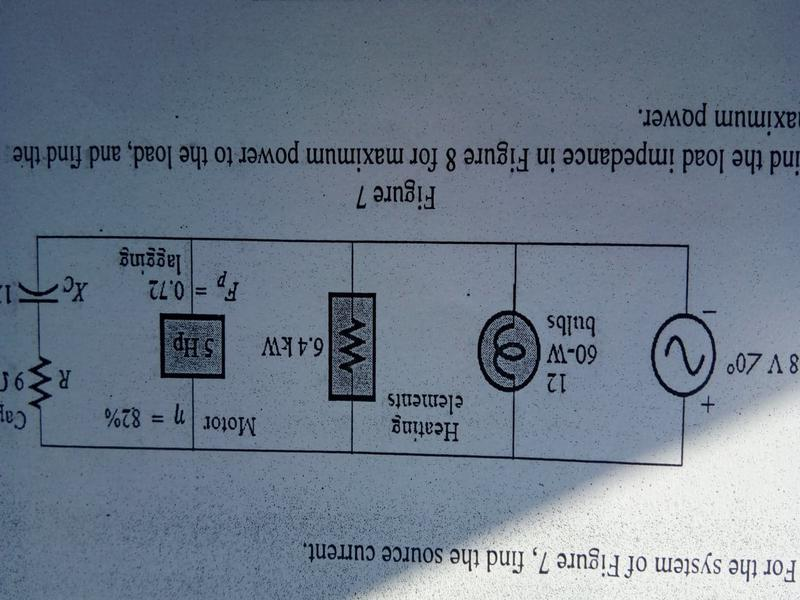capacitor: (10, 275, 84, 314)
resistor: (331, 292, 374, 403), (22, 350, 64, 423)
